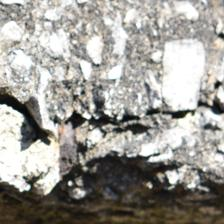Crack: (0, 79, 69, 143), (31, 149, 93, 185)
